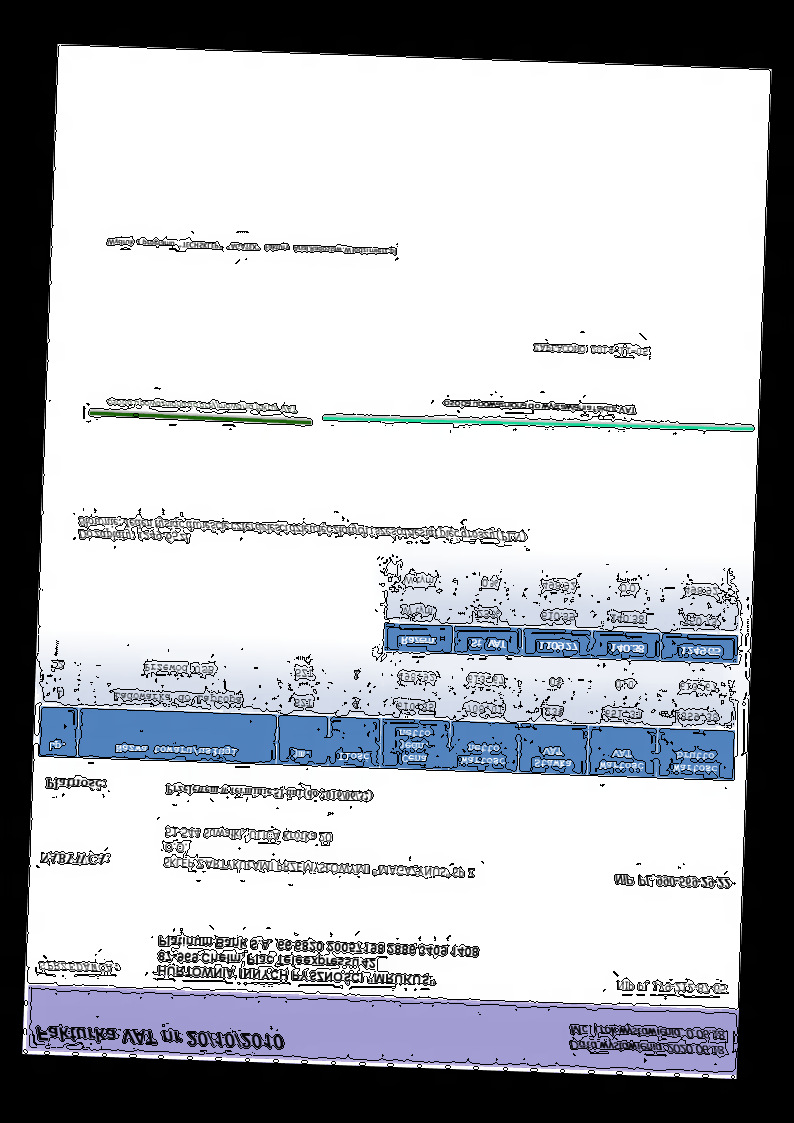Table: (36, 642, 738, 783), (382, 560, 742, 666)
TextBox: (74, 512, 529, 558), (155, 931, 482, 992), (163, 824, 476, 881), (33, 1022, 286, 1052), (104, 236, 401, 259), (565, 1023, 731, 1059), (164, 782, 374, 804), (104, 395, 299, 416), (439, 397, 638, 417), (613, 871, 731, 892), (612, 977, 726, 998), (531, 342, 649, 358), (34, 959, 121, 976), (38, 850, 111, 868), (45, 776, 108, 794)
